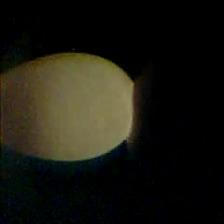infertile: (0, 52, 138, 162)
